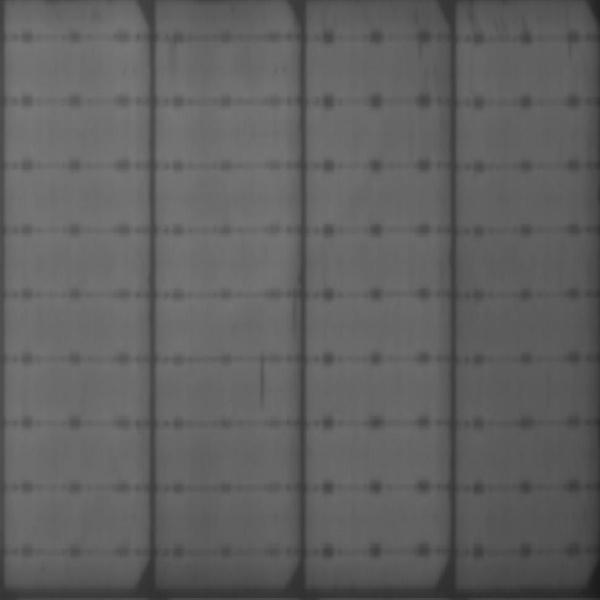scratch: (467, 8, 585, 33), (255, 360, 266, 408)
